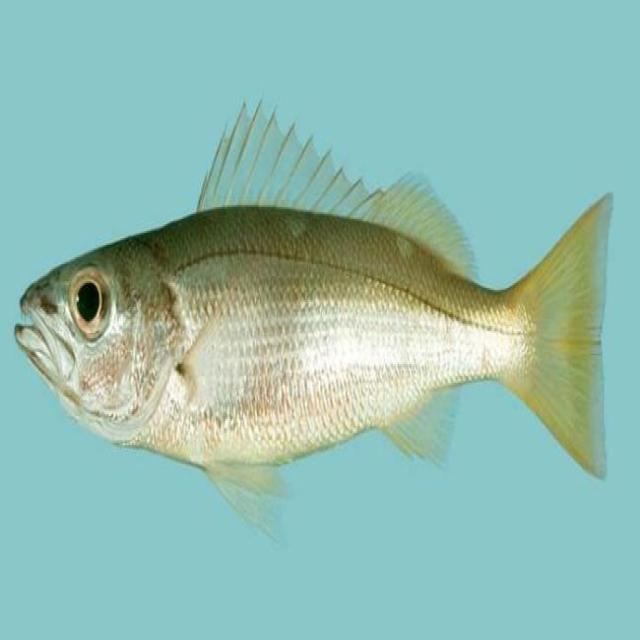ikan: (14, 95, 614, 542)
